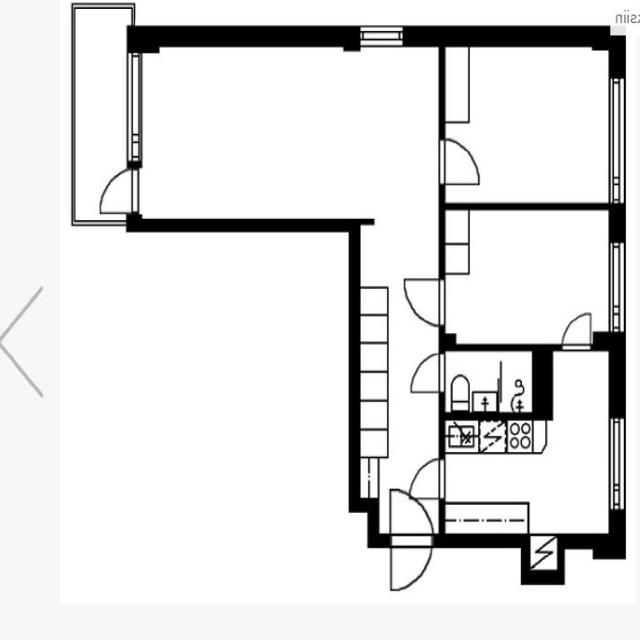door: (399, 270, 453, 332), (435, 127, 485, 190), (387, 544, 444, 594), (92, 164, 144, 217), (386, 488, 437, 542), (406, 348, 452, 400), (405, 457, 450, 503), (556, 304, 598, 351)
window: (601, 71, 632, 209), (605, 412, 630, 521), (605, 236, 630, 334), (349, 19, 412, 54), (127, 48, 142, 162)
zone: (138, 39, 436, 228), (441, 40, 618, 208), (442, 205, 617, 348), (439, 410, 614, 538), (546, 348, 614, 539), (440, 348, 539, 414), (93, 166, 142, 216)
